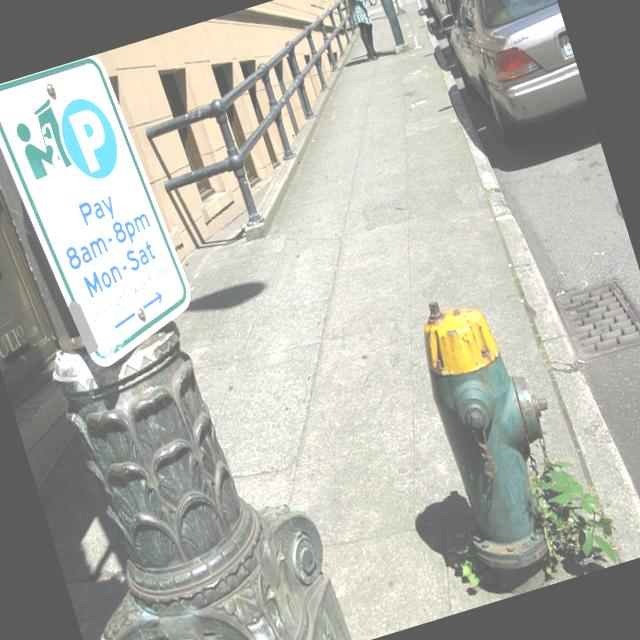Vehicle: (416, 0, 596, 167), (414, 0, 544, 34), (410, 0, 457, 21)
